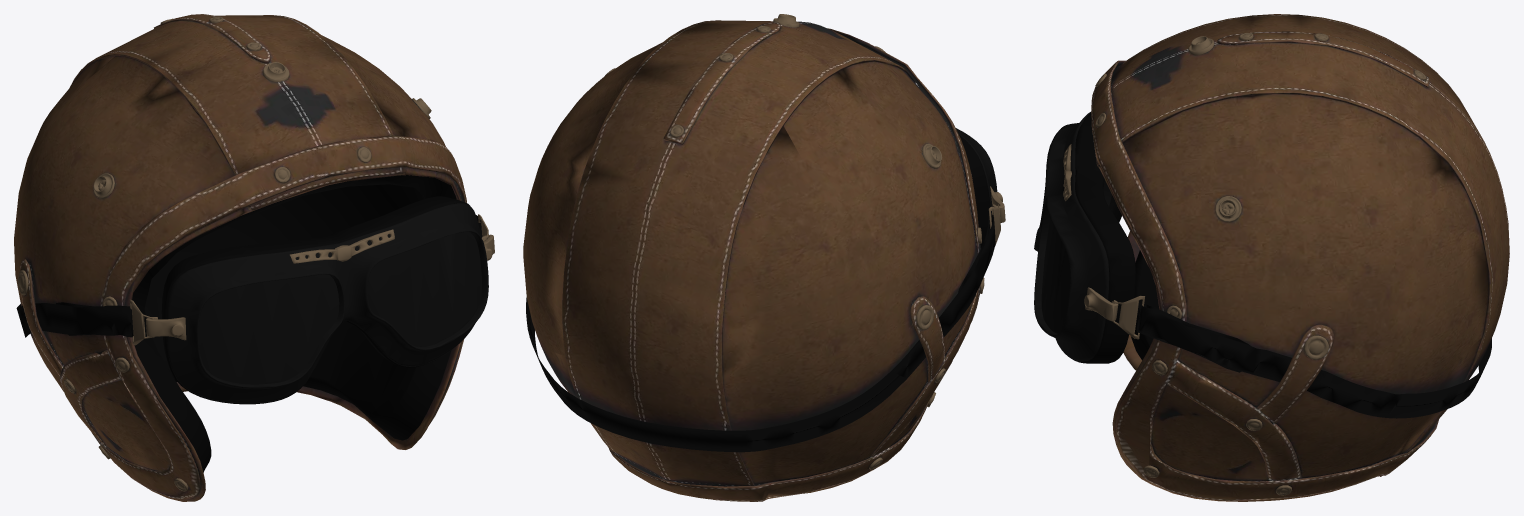
The model's file is helmet.glb.
3 views of the same model, side by side, from view 1: azimuth 30°, elevation 25°; view 2: azimuth 150°, elevation 25°; view 3: azimuth 270°, elevation 25° (orthographic).
Visible parts, largest first — view 1: helmet; view 2: helmet; view 3: helmet.
Boxes of the visible parts, left/top/right/bottom form: helmet: left=14, top=14, right=494, bottom=501; helmet: left=523, top=14, right=1005, bottom=501; helmet: left=1034, top=14, right=1509, bottom=501.
Bounding box in the file's own units: 0.2624 × 0.2572 × 0.2702.
Materials: 4 (1 with a texture image).
